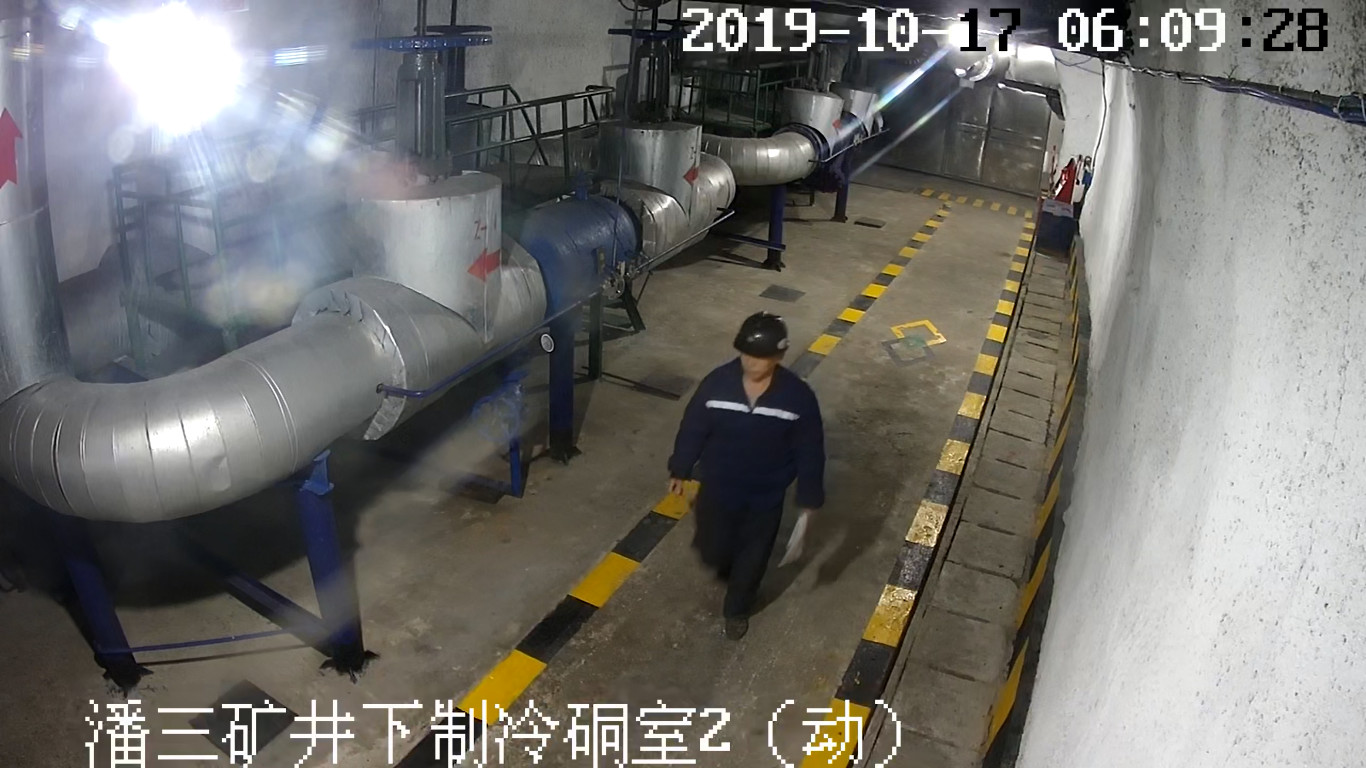helmet: (734, 310, 789, 358)
